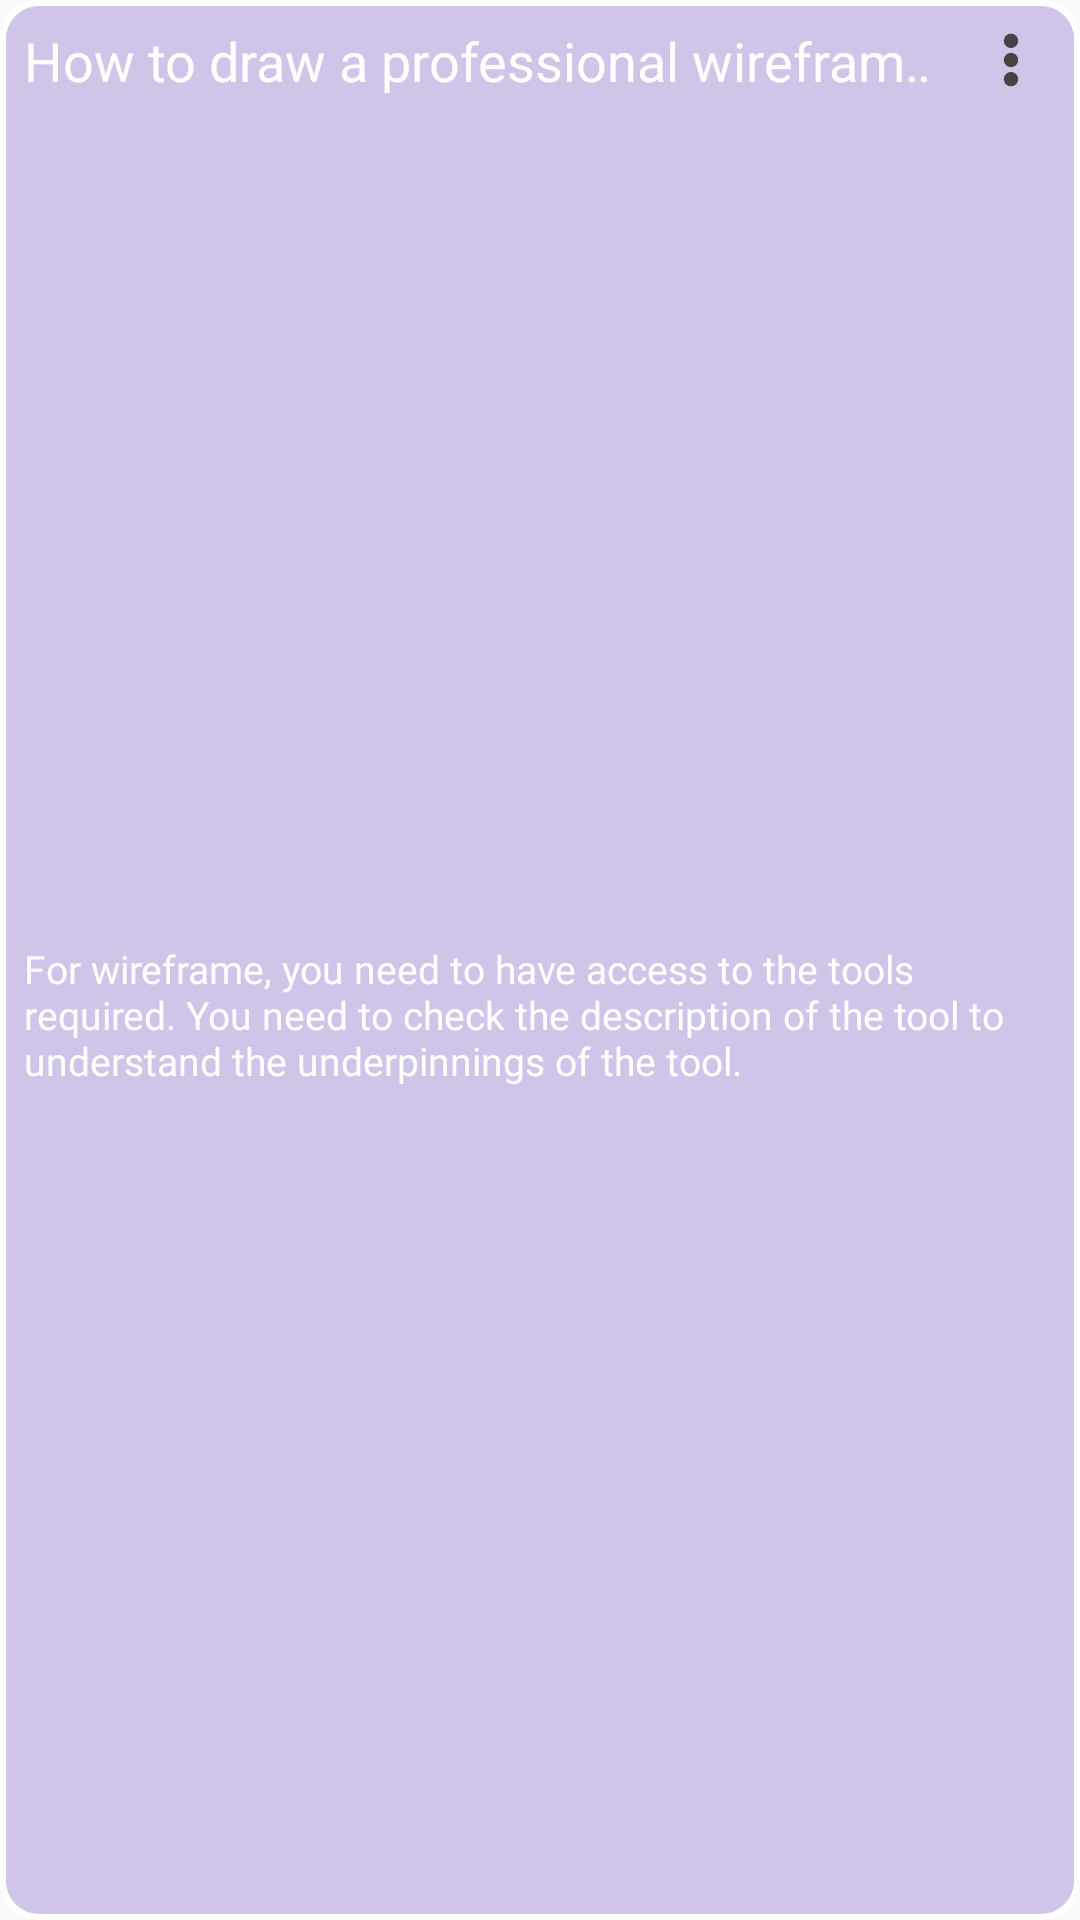

Icons on this 1080*1920 Android screen, each with its box as detection(x1, y1, x2, y2):
vertical: detection(1004, 33, 1018, 87)
